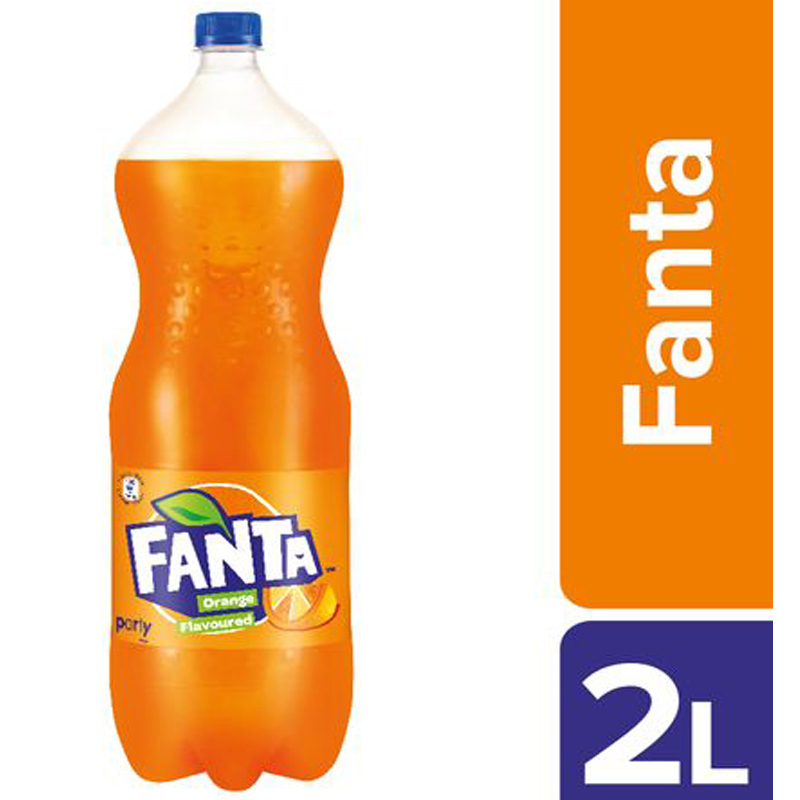Fanta: (62, 9, 395, 782)
